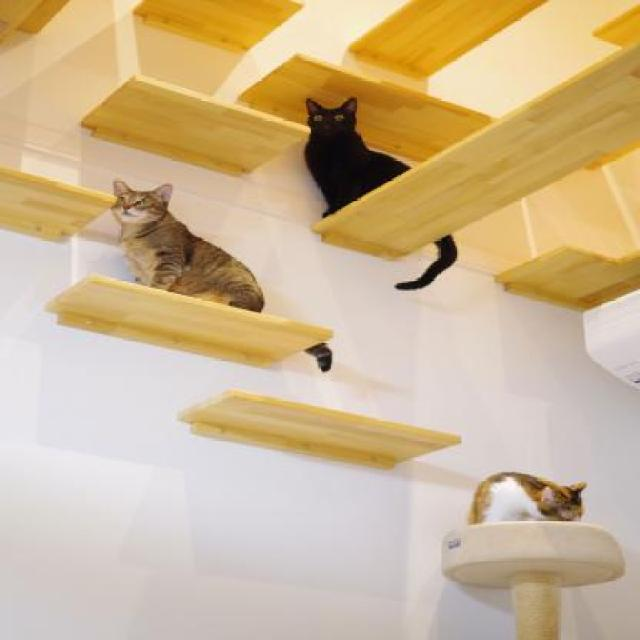cat: (112, 167, 337, 376), (294, 89, 463, 291), (468, 461, 590, 524)
